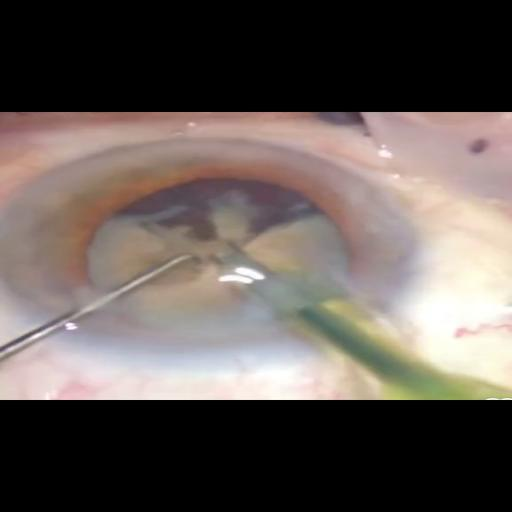catarata: (93, 182, 339, 332)
cornea: (10, 140, 418, 346)
pupil: (54, 164, 375, 332)
